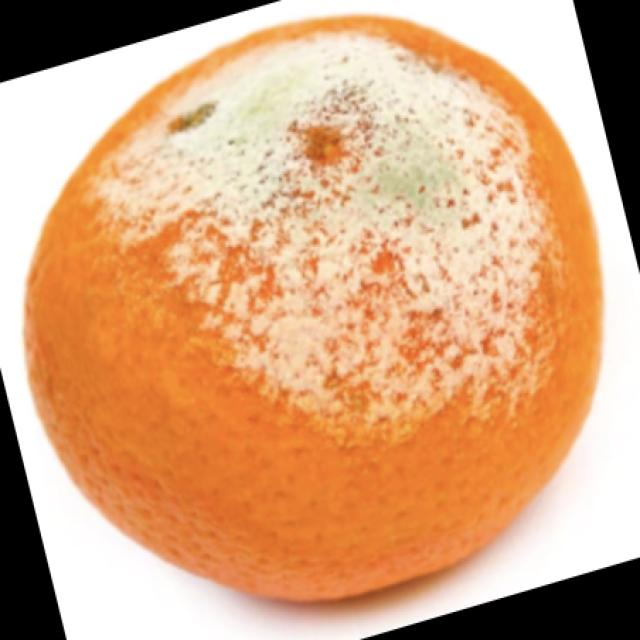sedikit_busuk: (36, 16, 600, 585)
